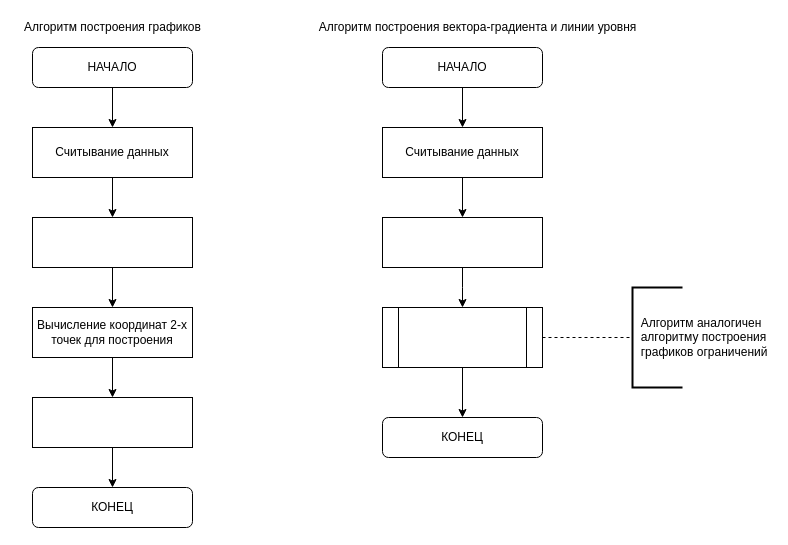
Some shapes in this 788 by 545 pixel diagram are drawn without their labels. Each missing label, with the box of its shape:
Построение линии из центра координат к заданной точке: (382, 216, 542, 268)
Построение линии уровня: (382, 306, 542, 368)
Построение прямой: (32, 396, 192, 448)
Преобразование уравнений к виду y = kx + b: (32, 216, 192, 268)
